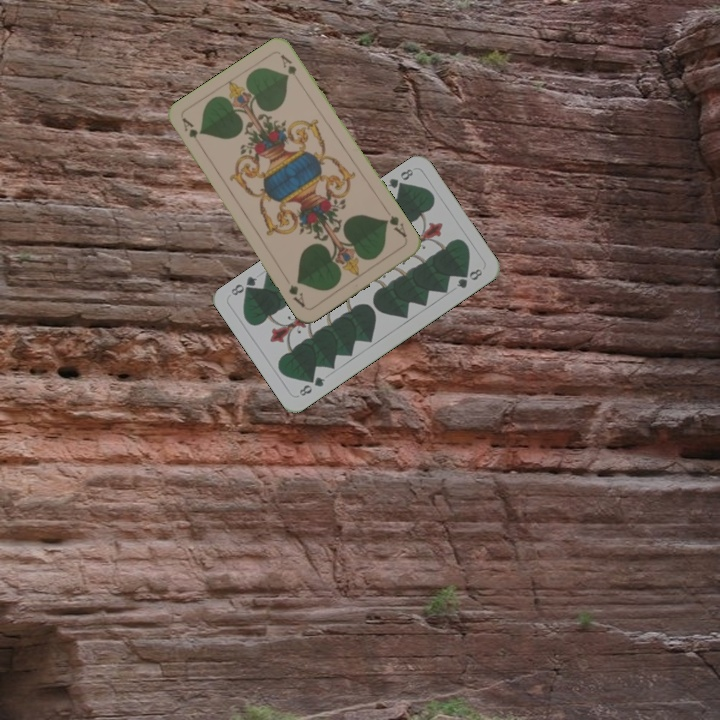G8: (384, 164, 416, 194), (295, 372, 328, 399)
GA: (380, 211, 409, 240), (178, 114, 200, 141)
